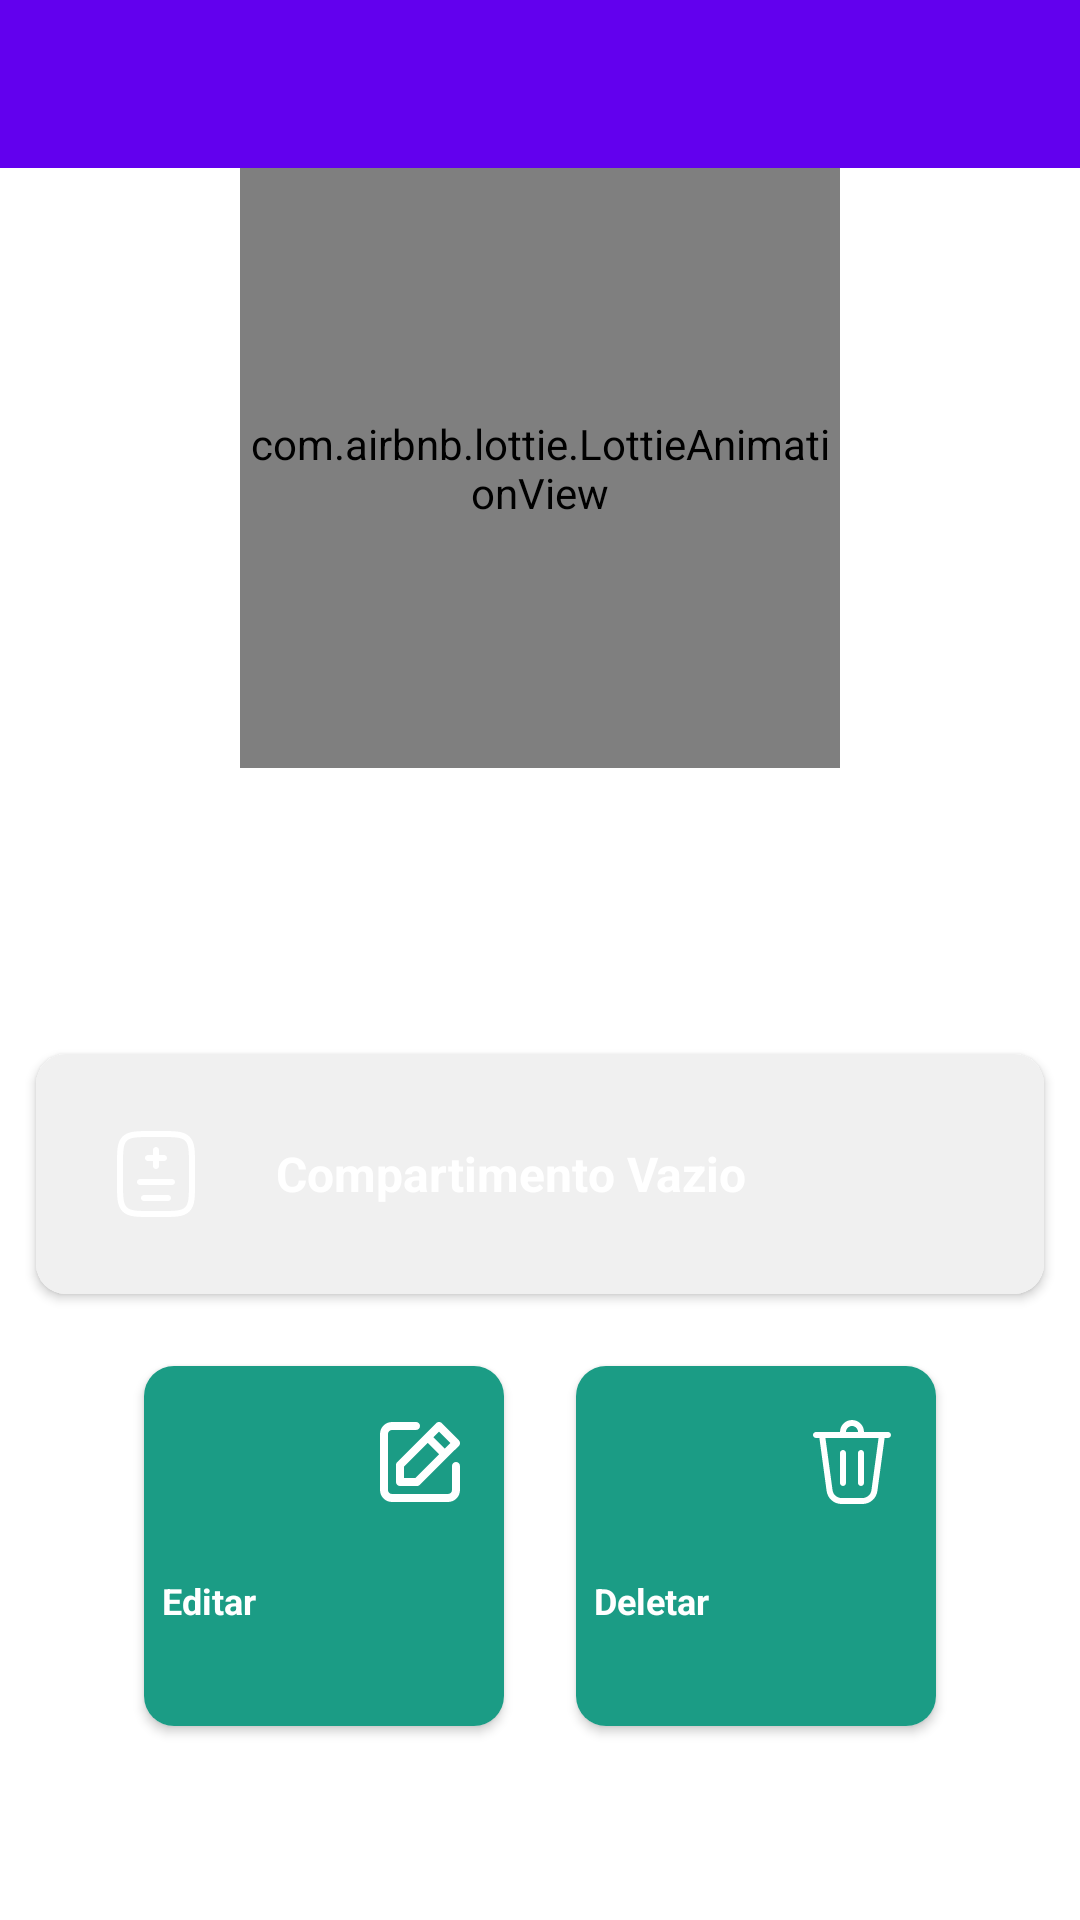

Named icons in this screenshot (1080*1920) and their bounding boxes, (x1, y1, x2, y2):
delete: (813, 1420, 891, 1504)
